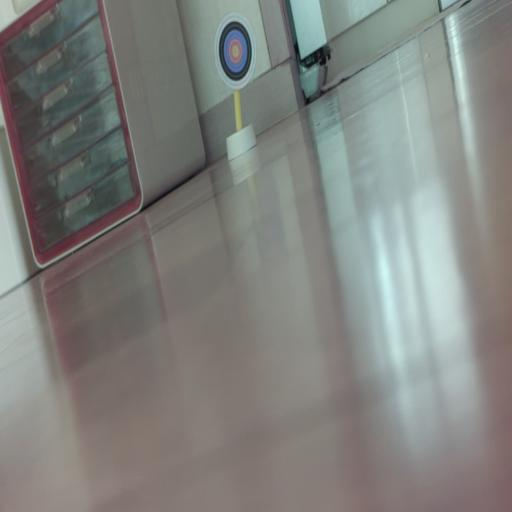target: (214, 13, 256, 89)
